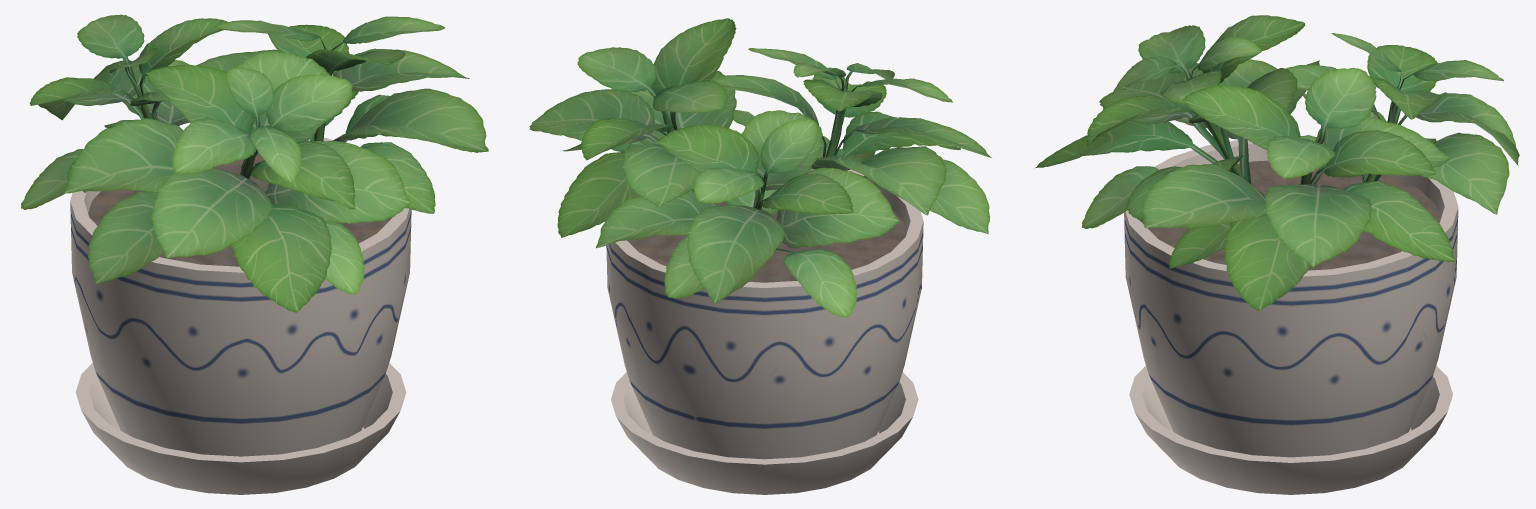
Rendered from basil1.glb.
3 views of the same model, side by side, from view 1: azimuth 30°, elevation 25°; view 2: azimuth 150°, elevation 25°; view 3: azimuth 270°, elevation 25° (orthographic). The views are drawn at different scales.
Parts seen in each view (by area): view 1: Basil_A.002, Pot.002; view 2: Basil_A.002, Pot.002; view 3: Basil_A.002, Pot.002.
Part boxes in pixels (box(x1,y1,x2,y2)): Basil_A.002: box(21, 14, 488, 312); Pot.002: box(70, 137, 411, 494); Basil_A.002: box(529, 18, 991, 317); Pot.002: box(606, 168, 923, 494); Basil_A.002: box(1034, 15, 1519, 310); Pot.002: box(1124, 140, 1458, 494).
Bounding box in the file's own units: 3.48 × 2.99 × 3.45.
Materials: 2 (2 with a texture image).
